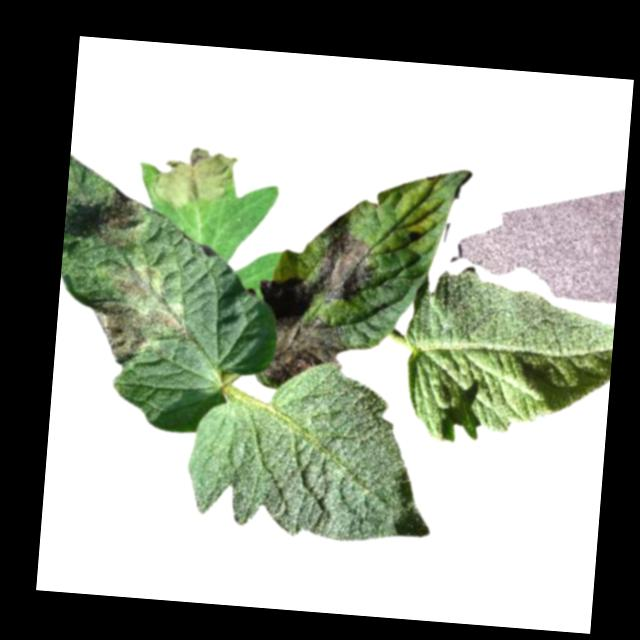Late_blight: (257, 226, 373, 324), (87, 299, 187, 369), (150, 142, 245, 213), (264, 316, 346, 389), (95, 185, 156, 251), (106, 261, 166, 304)
healthy: (182, 351, 443, 548), (397, 263, 616, 459)
